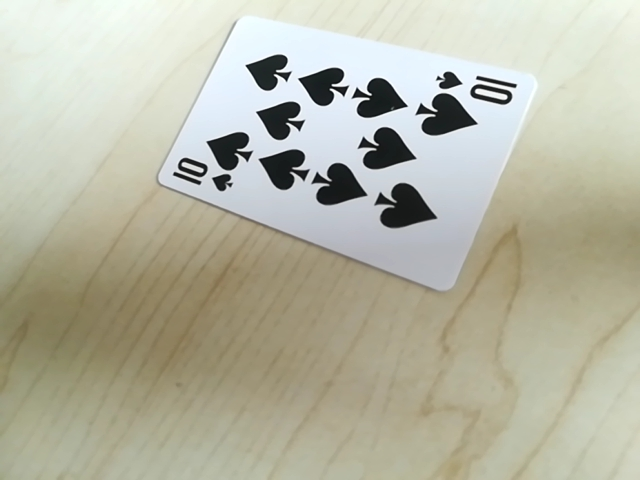ht 10: (431, 65, 526, 103), (164, 160, 235, 195)
